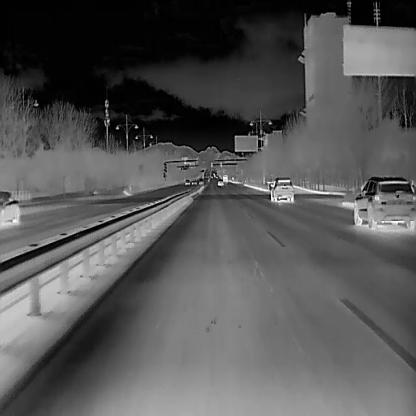bus: (223, 175, 227, 182)
car: (352, 174, 416, 229), (266, 174, 294, 203), (0, 189, 20, 222), (183, 179, 190, 185), (198, 177, 203, 184), (216, 180, 222, 185), (191, 179, 196, 184)
